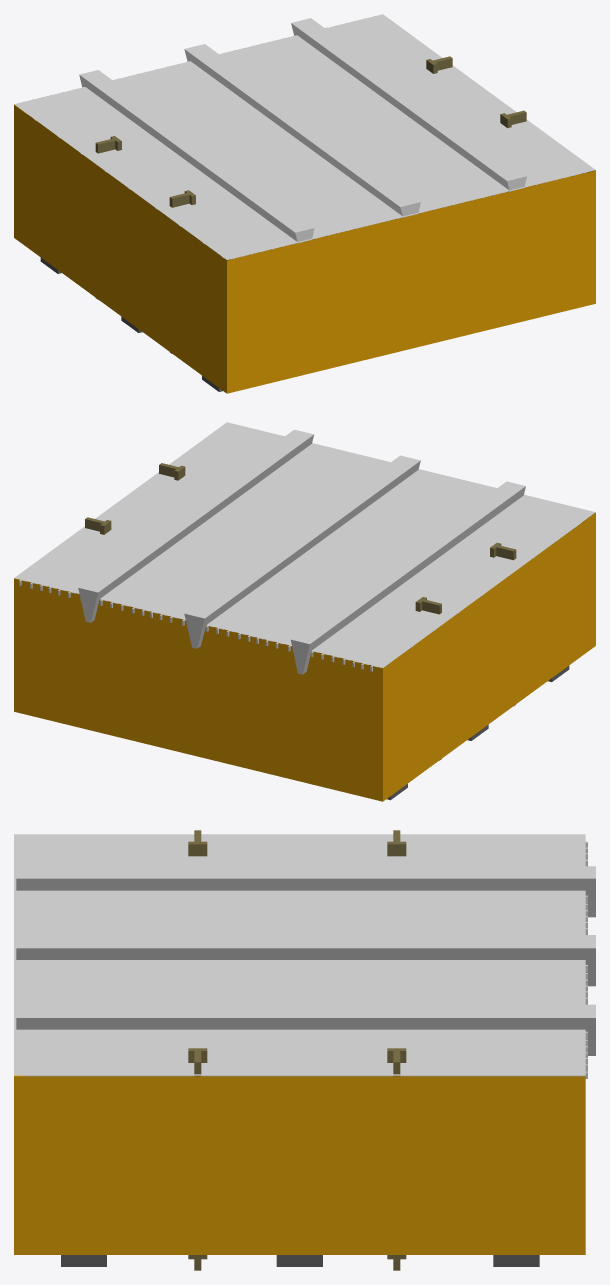
The model's file is TrampolinePark.fbx.
The picture shows the model from 3 angles, top to bottom: view 1: azimuth 30°, elevation 25°; view 2: azimuth 150°, elevation 25°; view 3: azimuth 270°, elevation 25°; orthographic projection. The views are drawn at different scales.
Visible parts, largest first — view 1: polySurface11, polySurface3; view 2: polySurface11, polySurface3; view 3: polySurface11, polySurface3.
Boxes of the visible parts, x1,y1,x2,y2 form: polySurface11: (14,14,595,391); polySurface3: (14,104,595,393); polySurface11: (14,422,595,800); polySurface3: (14,512,595,801); polySurface11: (14,830,595,1270); polySurface3: (14,1075,585,1254).
Size of the model in its own units: 21.31 by 8.66 by 21.7.
